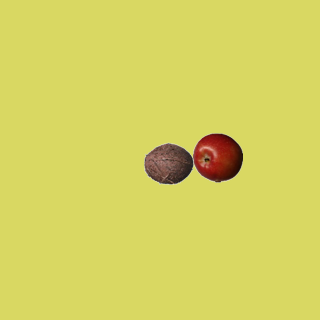Apple Braeburn: (192, 132, 242, 182)
Cocos: (143, 138, 193, 188)
